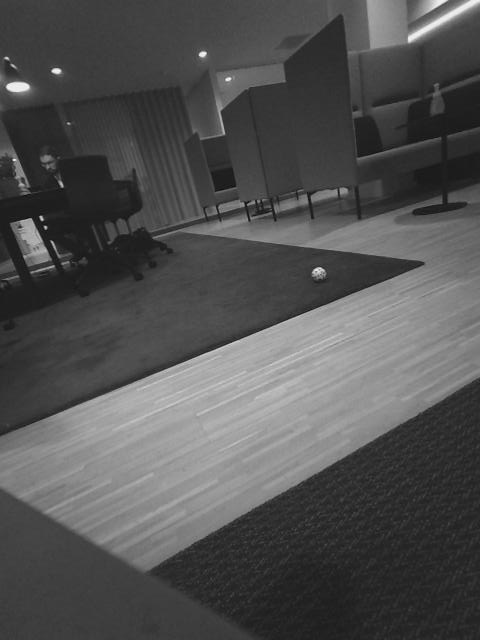dogtoy: (307, 262, 333, 286)
